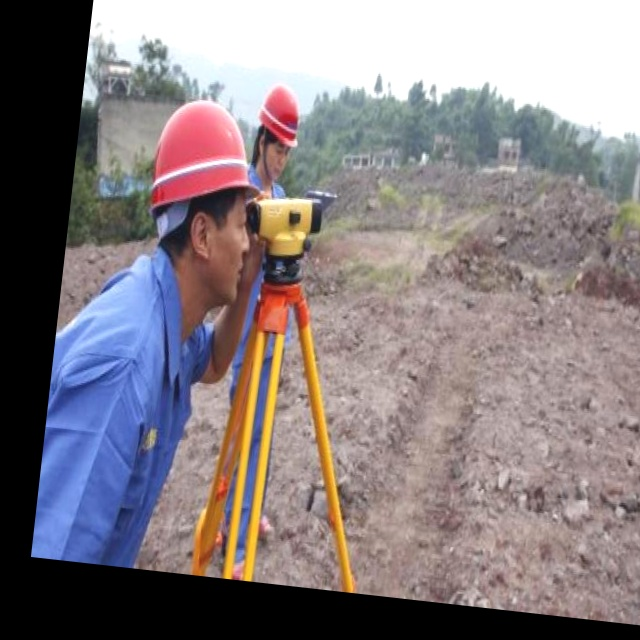Con_Casco: (250, 86, 306, 178)
